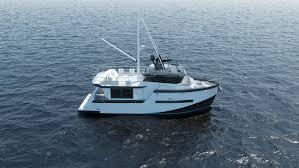Ship: (79, 17, 221, 118)
